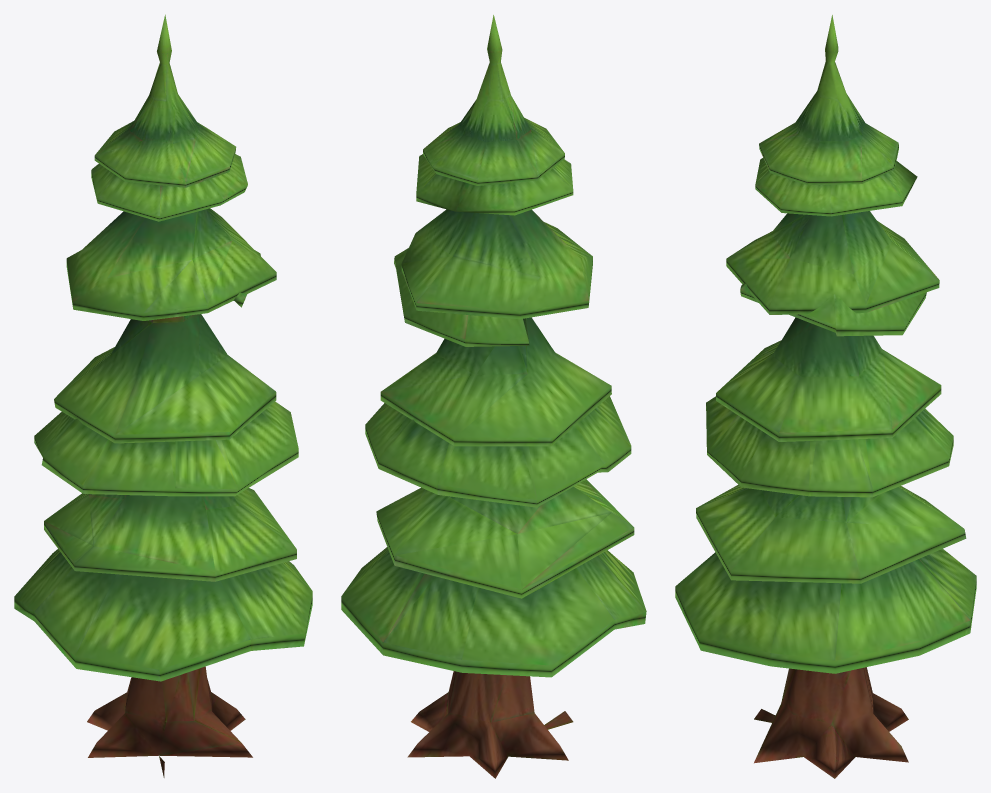
The model's file is world-pine.glb.
The picture shows the model from 3 angles, left to right: view 1: azimuth 30°, elevation 25°; view 2: azimuth 150°, elevation 25°; view 3: azimuth 270°, elevation 25°; orthographic projection.
Size of the model in its own units: 1.48 by 4 by 1.5.
Materials: 1 (1 with a texture image).
